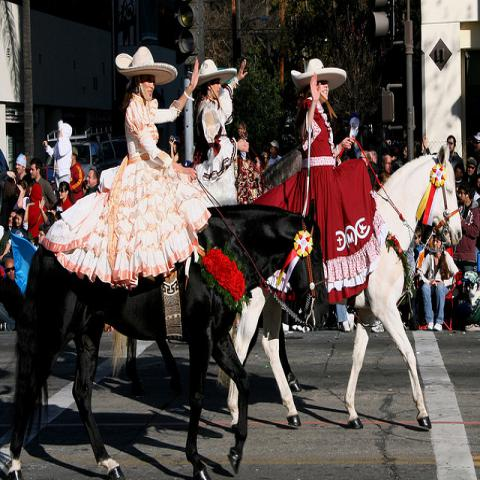car: (46, 141, 105, 179)
